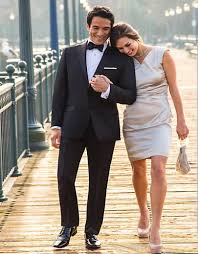F_M_suit jacket: (45, 36, 141, 146)
F_dress pants: (55, 122, 119, 239)
